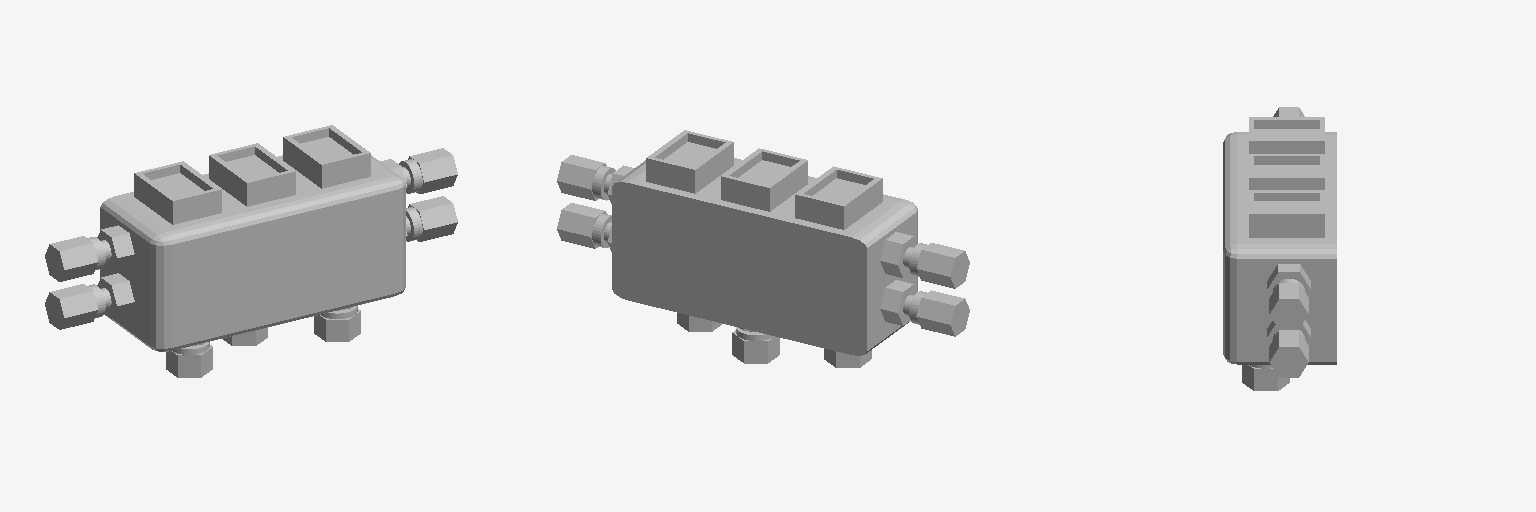
The model's file is boitier_hydraulique_t1.obj.
The picture shows the model from 3 angles: view 1: azimuth 30°, elevation 25°; view 2: azimuth 150°, elevation 25°; view 3: azimuth 270°, elevation 25°; orthographic projection.
Visible parts, largest first — view 1: boitier_hydraulique_Cube.042; view 2: boitier_hydraulique_Cube.042; view 3: boitier_hydraulique_Cube.042.
Part boxes in pixels (x1,y1,x2,y2): boitier_hydraulique_Cube.042: (45,125,457,377); boitier_hydraulique_Cube.042: (557,130,969,367); boitier_hydraulique_Cube.042: (1223,107,1336,390).
Bounding box in the file's own units: 14.16 × 6.21 × 3.52.